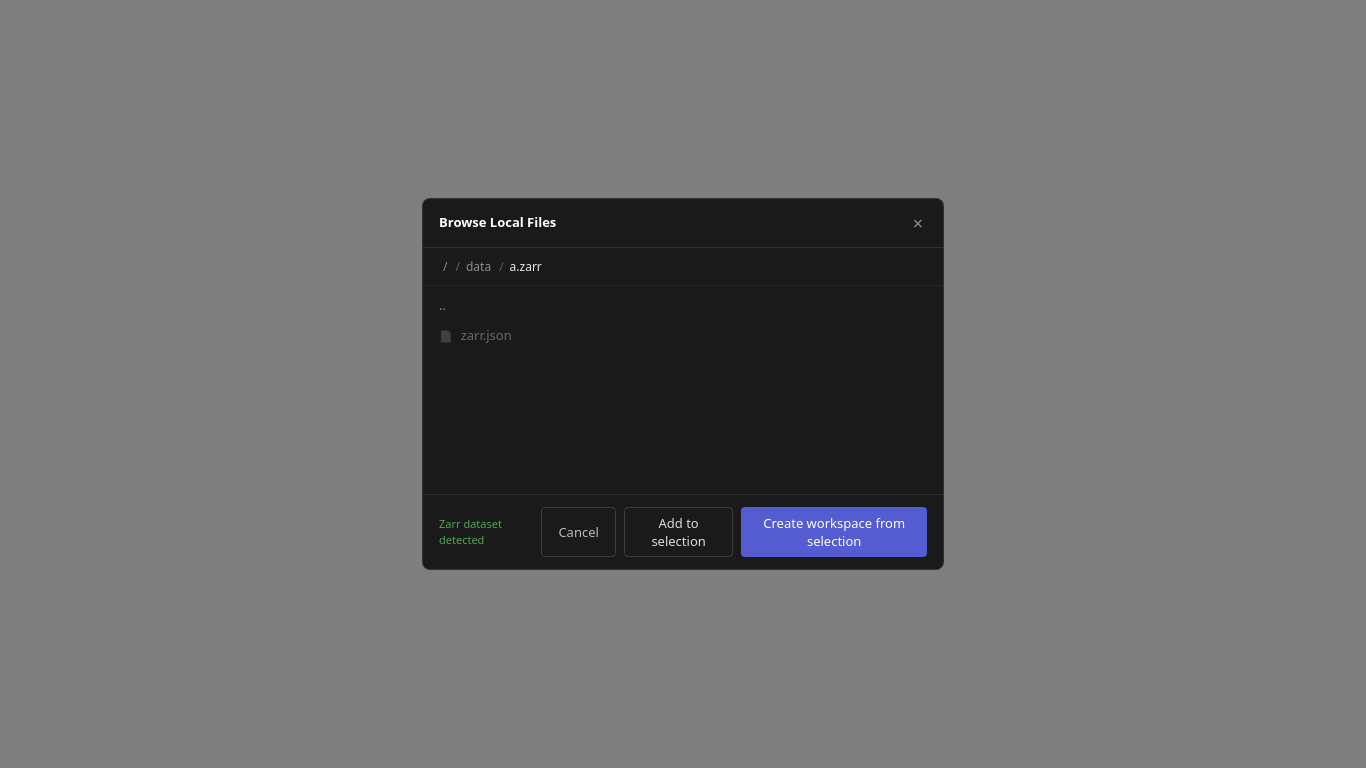
Scenario: FileBrowser — create workspace from selection (multi-select) › removes a dataset from the selection before creating
Click the button "Add to selection": x=679, y=532 left=624, top=507, right=733, bottom=557
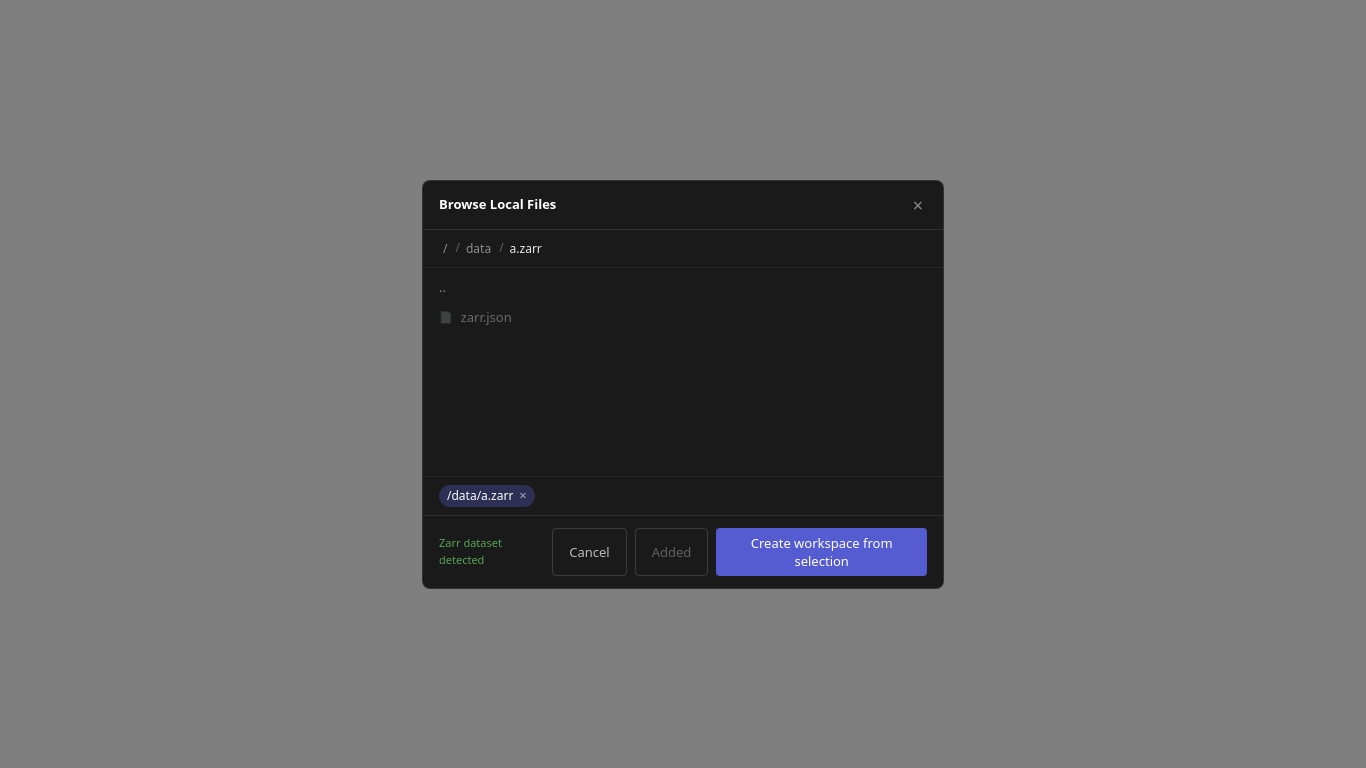
expect the button "Added" is shown: met, box left=635, top=528, right=708, bottom=576
Click the button named "Remove /data/a.zarr from selection": x=523, y=496 left=519, top=489, right=527, bottom=502
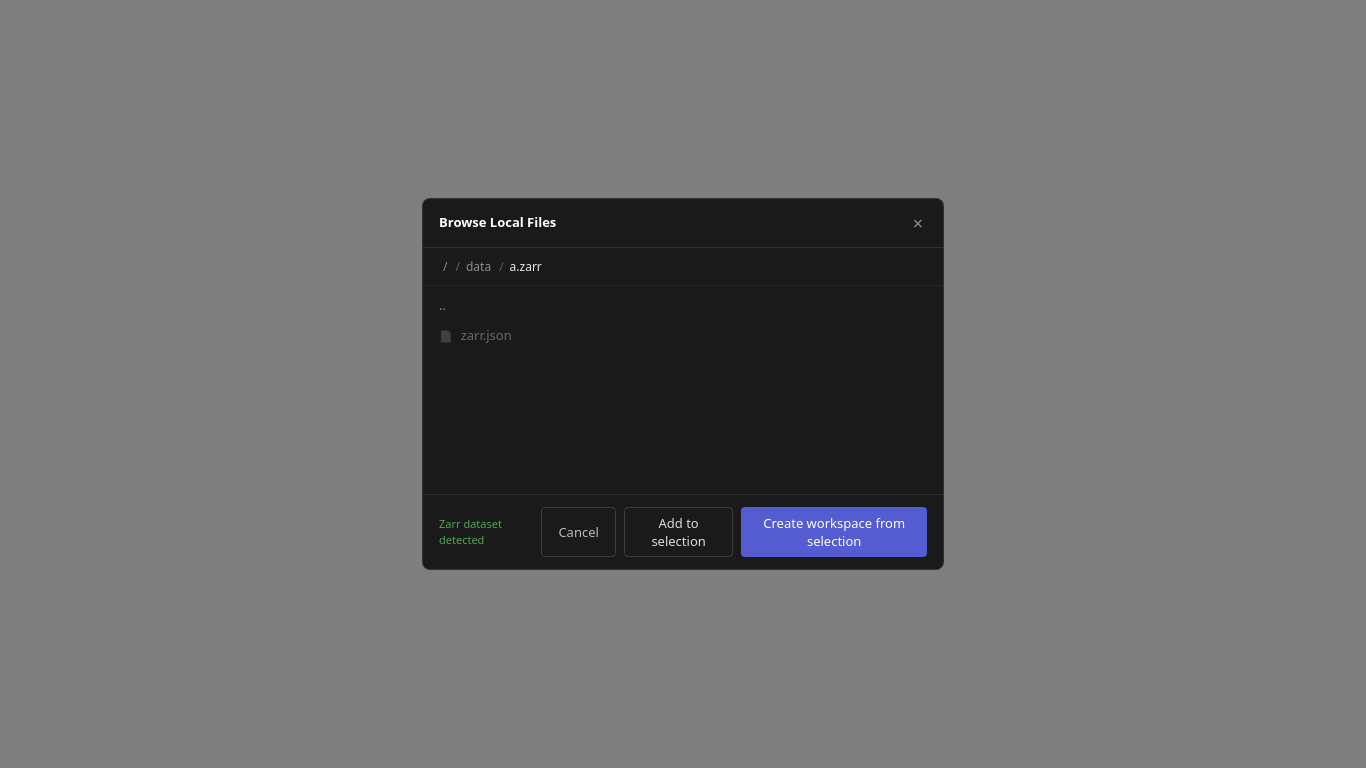
expect the element with test id "file-browser-selection" is gone: met
